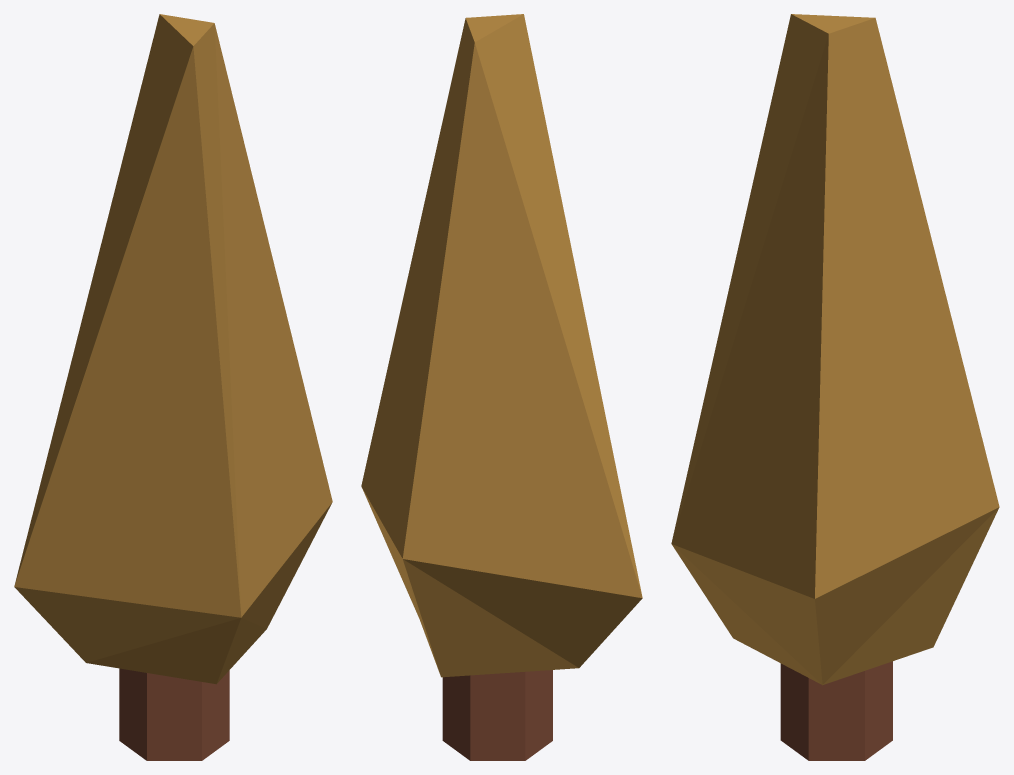
The model's file is Bush_10_autumn_mat.fbx.
The picture shows the model from 3 angles, left to right: view 1: azimuth 30°, elevation 25°; view 2: azimuth 150°, elevation 25°; view 3: azimuth 270°, elevation 25°; orthographic projection.
Visible parts, largest first — view 1: Bush_10_autumn_mat; view 2: Bush_10_autumn_mat; view 3: Bush_10_autumn_mat.
Boxes of the visible parts, <box> form: Bush_10_autumn_mat: <box>14,14,332,760</box>; Bush_10_autumn_mat: <box>361,14,642,760</box>; Bush_10_autumn_mat: <box>671,14,999,760</box>.
Size of the model in its own units: 38.13 by 86.43 by 35.48.
